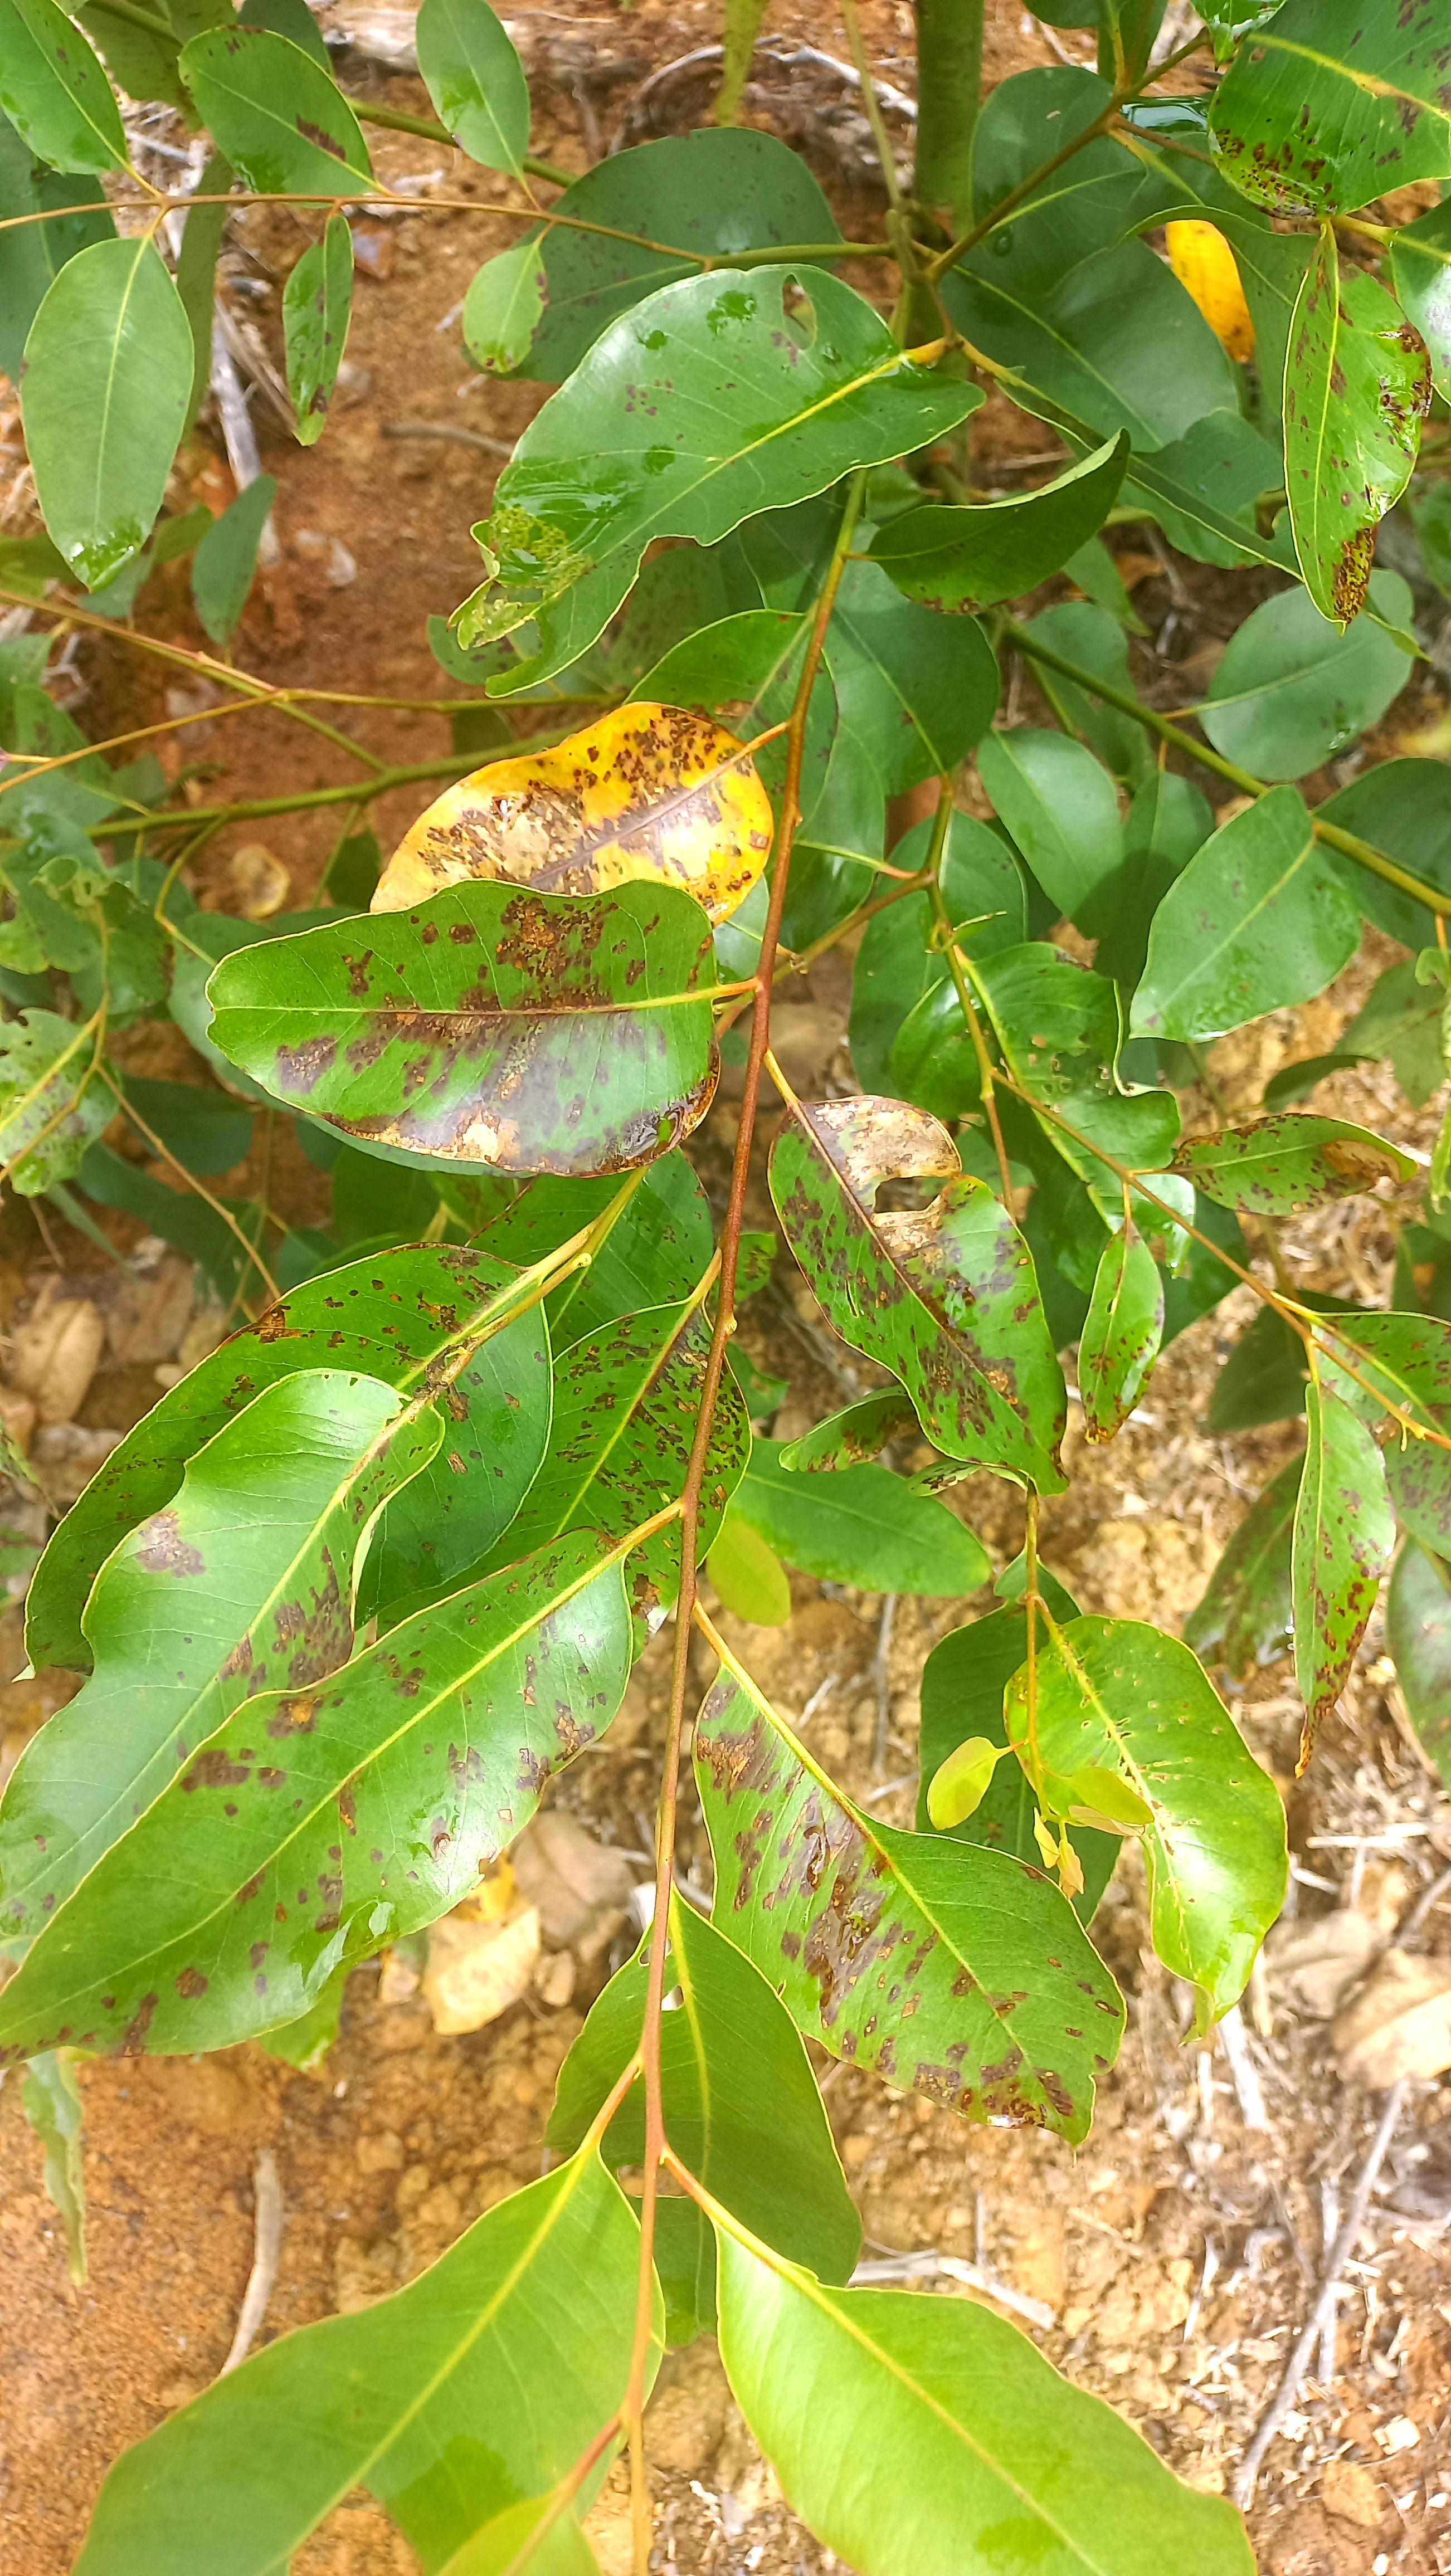Xanthomonas: (198, 881, 770, 1166), (681, 1651, 1002, 2070), (791, 1095, 1016, 1445), (536, 1293, 747, 1555), (430, 692, 754, 849)
